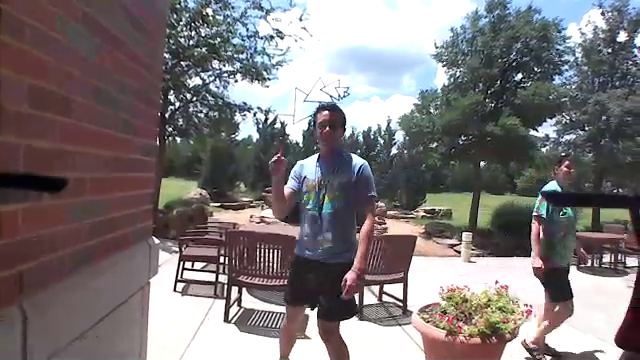up: (264, 136, 291, 181)
